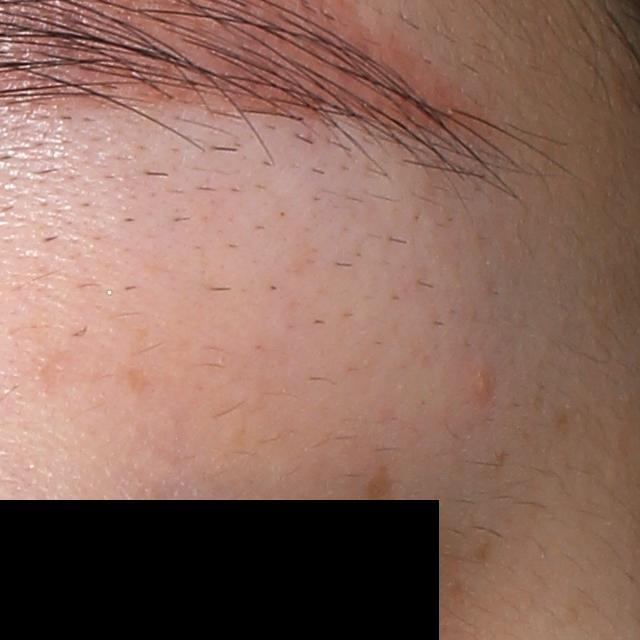melasma: (362, 463, 395, 530), (473, 533, 491, 565)
papule: (467, 366, 499, 408)
